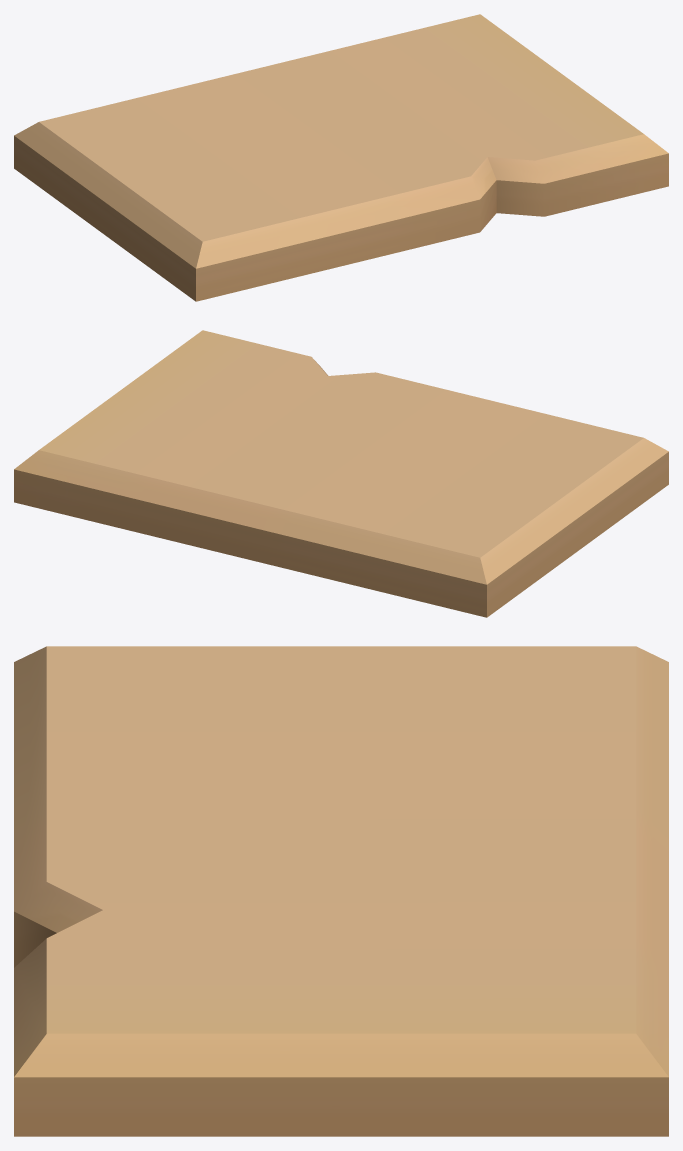
File: kkr.cuttingboard.glb
3 renders of one model, top to bottom at view 1: azimuth 30°, elevation 25°; view 2: azimuth 150°, elevation 25°; view 3: azimuth 270°, elevation 25°, orthographic. The views are drawn at different scales.
Parts seen in each view (by area): view 1: cuttingboard; view 2: cuttingboard; view 3: cuttingboard.
Part boxes in pixels (x1,y1,x2,y2): cuttingboard: [14, 14, 668, 301]; cuttingboard: [14, 330, 668, 617]; cuttingboard: [14, 646, 668, 1136].
Size of the model in its own units: 0.4135 by 0.0413 by 0.2757.
1 material, 1 textured.
